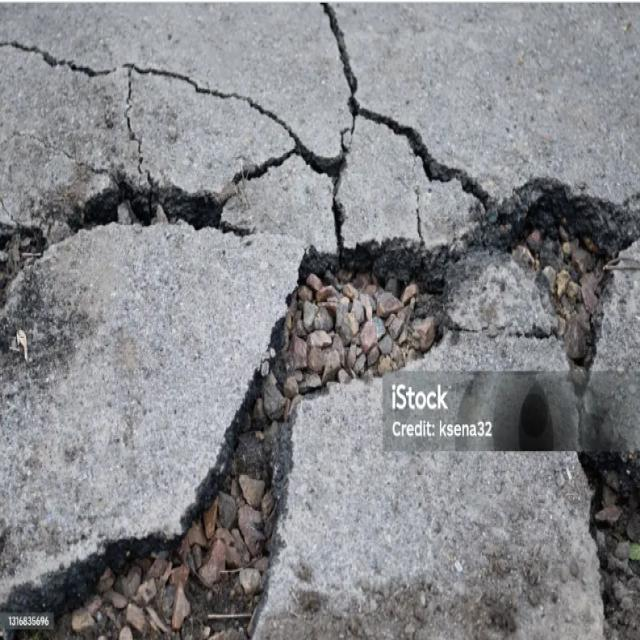branched cracks: (0, 3, 639, 639), (578, 452, 639, 616), (0, 221, 56, 299), (0, 41, 115, 77)
